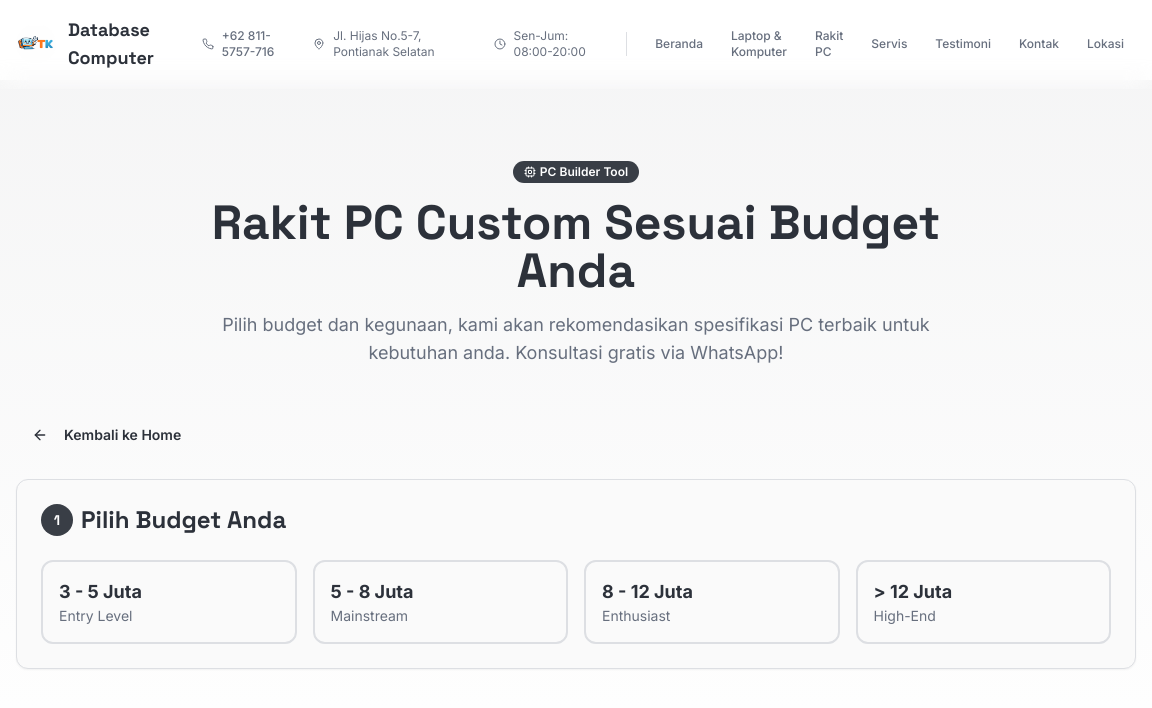
it: PCBuilder › Budget Selection › should show use case selection after budget is selected
The image size is (1152, 708).
Click the text "5 - 8 Juta": [372, 592] box [330, 581, 414, 602]
(page scrolled)
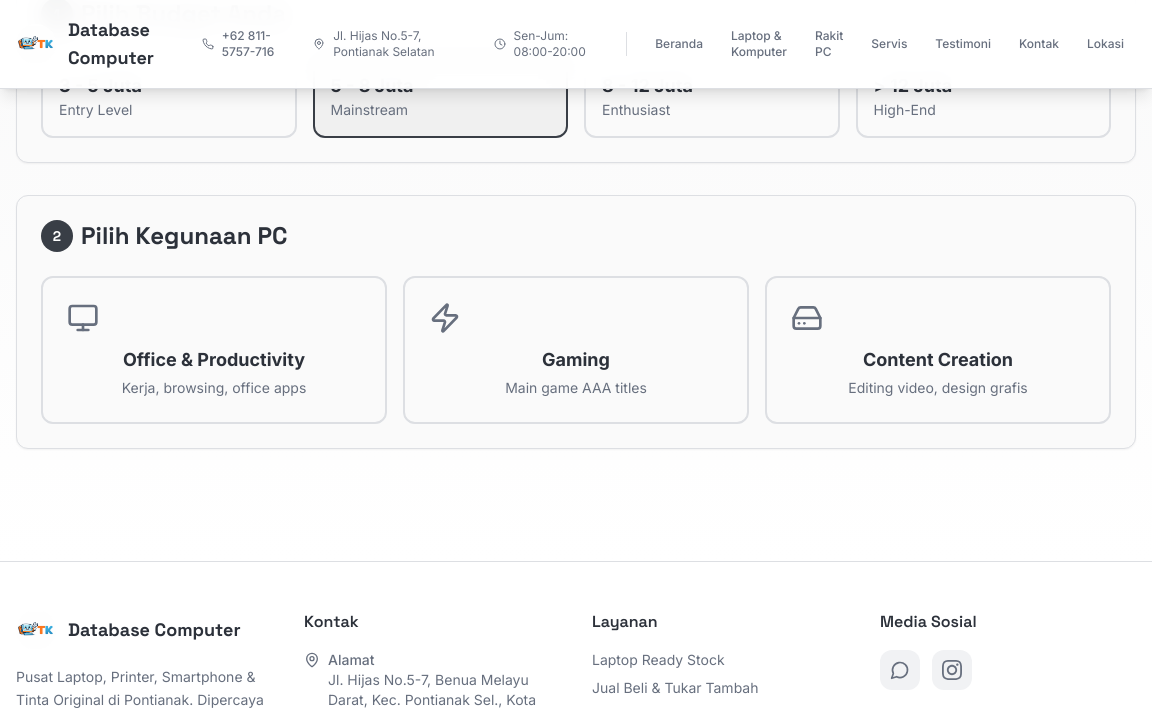
Check: the heading "2 Pilih Kegunaan PC" is shown, box [41, 220, 288, 252]
Check: the text "Office & Productivity" is shown, box [123, 349, 305, 370]
Check: the text "Gaming" is shown, box [542, 349, 610, 370]
